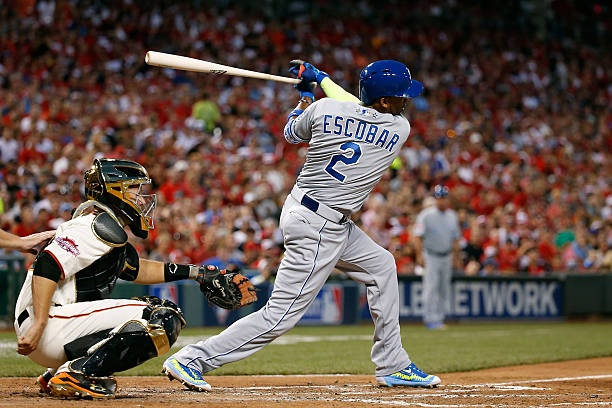bita: (140, 49, 321, 88)
